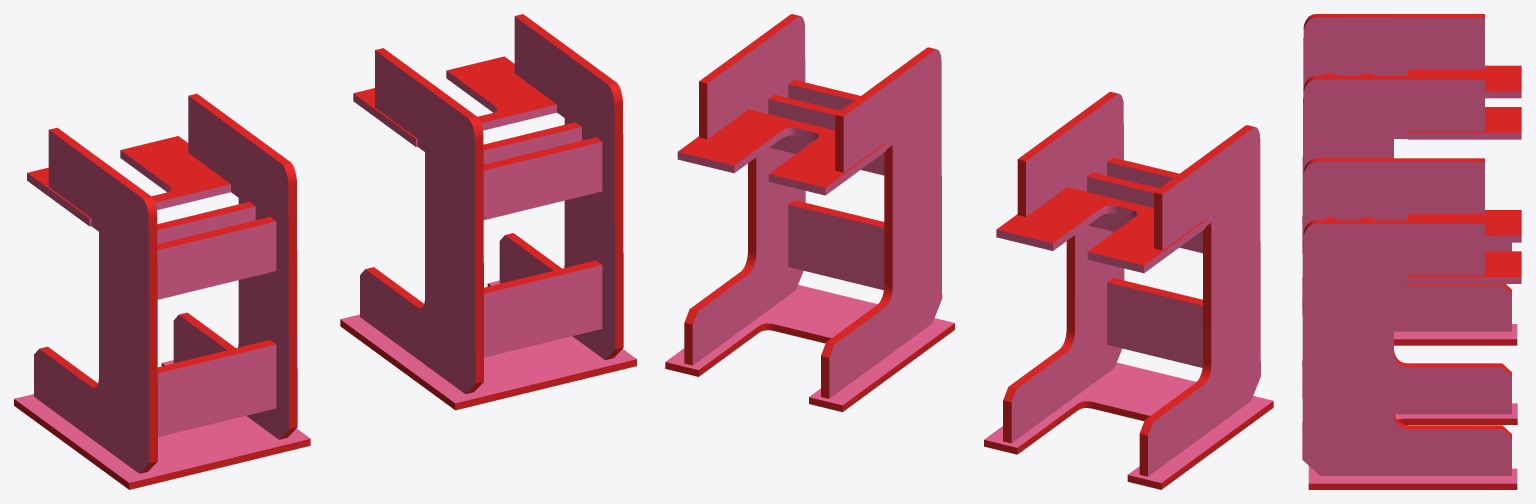
Rendered from 2DTo3D.FBX.
The picture shows the model from 3 angles, left to right: view 1: azimuth 30°, elevation 25°; view 2: azimuth 150°, elevation 25°; view 3: azimuth 270°, elevation 25°; orthographic projection. The views are drawn at different scales.
Parts seen in each view (by area): view 1: 左側版, 型變_左下, 型變_右上, 右側版, 型變_左上, 型變_右下, 底板, 補強板, 元件固定板, 頂板, 上補強板, 型變_下 (+3 smaller); view 2: 左側版, 右側版, 型變_右下, 型變_左下, 型變_右上, 型變_左上, 底板, 頂板, 補強板, 上補強板, 型變_下, 元件固定板 (+2 smaller); view 3: 右側版, 左側版, 型變_右上, 型變_左上, 型變_右下, 底板, 頂板, 型變_左下.
Part boxes in pixels (x1,y1,x2,y2): 左側版: (360, 48, 483, 394); 型變_左下: (14, 313, 211, 489); 型變_右上: (120, 93, 297, 298); 右側版: (499, 14, 623, 360); 型變_左上: (27, 127, 203, 332); 型變_右下: (161, 280, 310, 465); 底板: (340, 280, 636, 410); 補強板: (484, 260, 602, 357); 元件固定板: (483, 137, 602, 219); 頂板: (353, 56, 556, 146); 上補強板: (483, 122, 581, 164); 型變_下: (172, 354, 228, 469); 左側版: (821, 47, 942, 398); 右側版: (684, 14, 805, 365); 型變_右下: (984, 259, 1176, 454); 型變_左下: (1127, 266, 1273, 489); 型變_右上: (996, 92, 1167, 251); 型變_左上: (1087, 125, 1260, 284); 底板: (665, 285, 954, 411); 頂板: (677, 109, 886, 195); 補強板: (788, 200, 884, 290); 上補強板: (768, 94, 884, 175); 型變_下: (1130, 291, 1192, 420); 元件固定板: (788, 79, 860, 110); 右側版: (1302, 220, 1511, 475); 左側版: (1302, 158, 1511, 414); 型變_右上: (1303, 75, 1521, 196); 型變_左上: (1303, 14, 1521, 134); 型變_右下: (1302, 212, 1517, 345); 底板: (1308, 403, 1517, 489); 頂板: (1408, 210, 1521, 283); 型變_左下: (1302, 151, 1511, 253).
Size of the model in its own units: 149 by 61.4 by 79.87.
